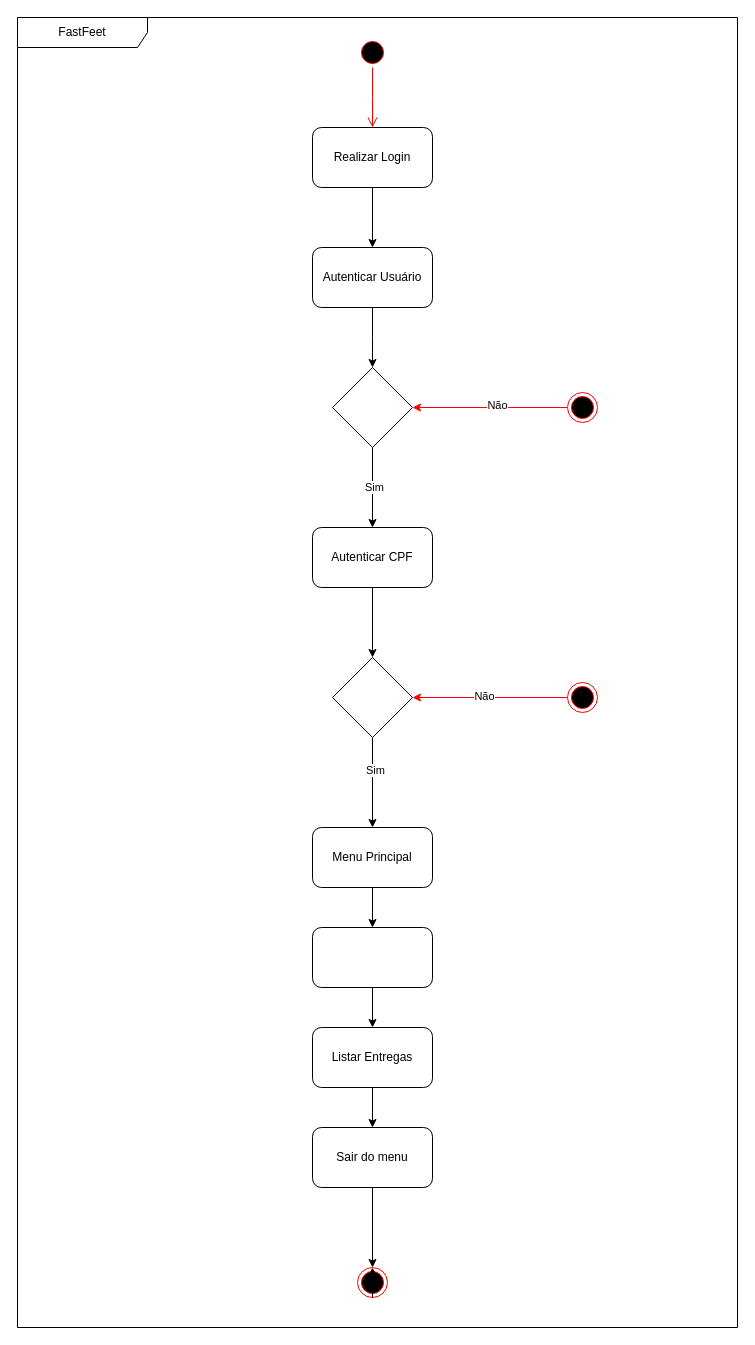
Some shapes in this 755 by 1345 pixel diagram are drawn without their labels. Each missing label, with the centre of its shape:
"Realizar Operações" belongs at [372,957].
"Verificar CPF" belongs at [372,697].
"Verificar Senha" belongs at [372,407].
